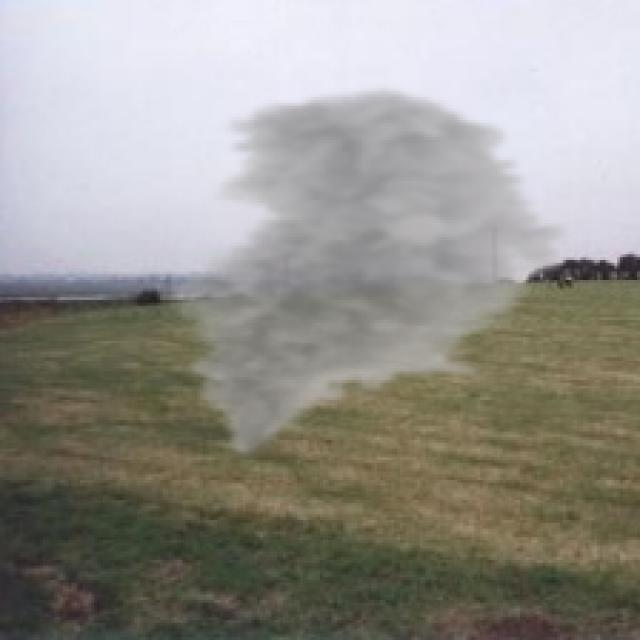smoke: (157, 83, 580, 463)
